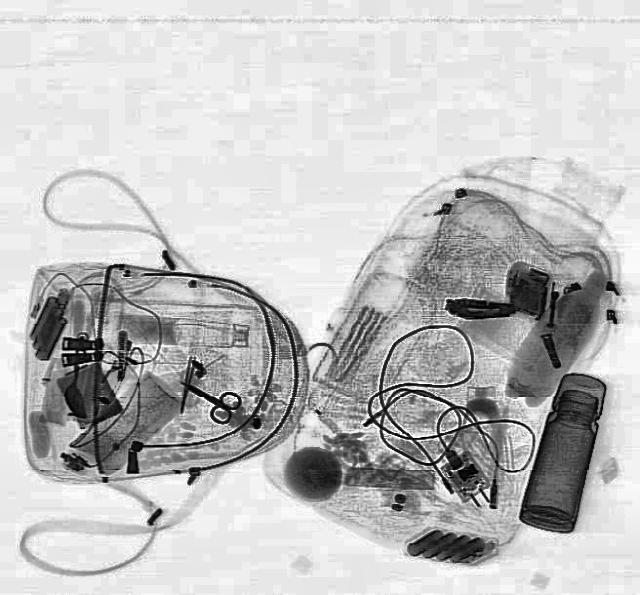Scissors: (168, 368, 244, 426)
